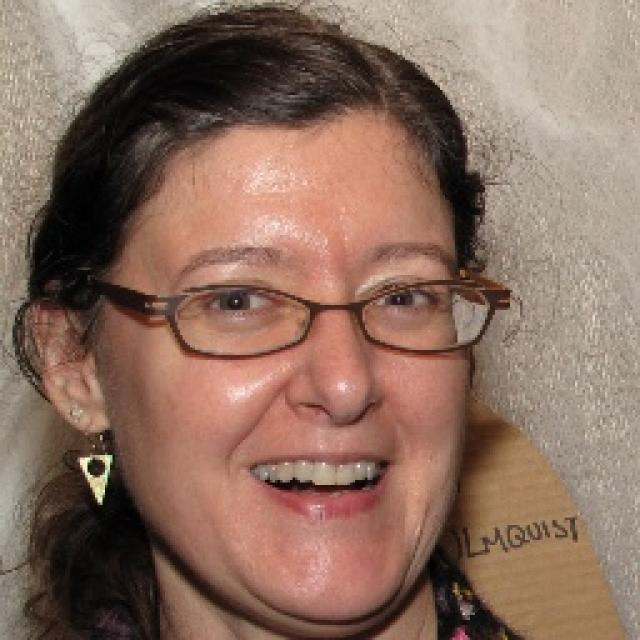earlobe: (29, 294, 112, 434)
